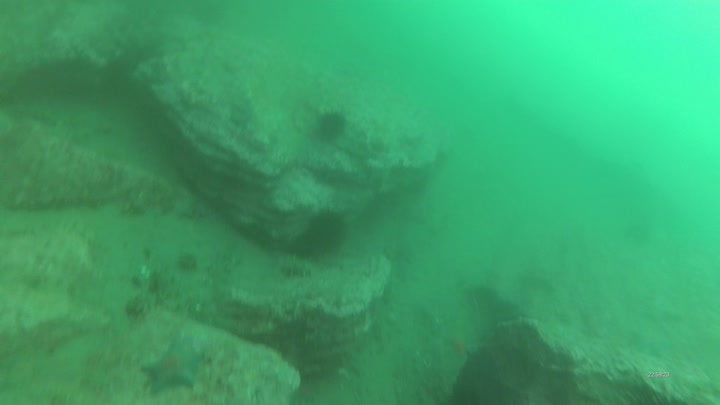echinus: (303, 208, 347, 260), (314, 109, 349, 143)
holothurian: (125, 291, 160, 319)
starfish: (141, 337, 205, 390), (170, 193, 199, 223)
